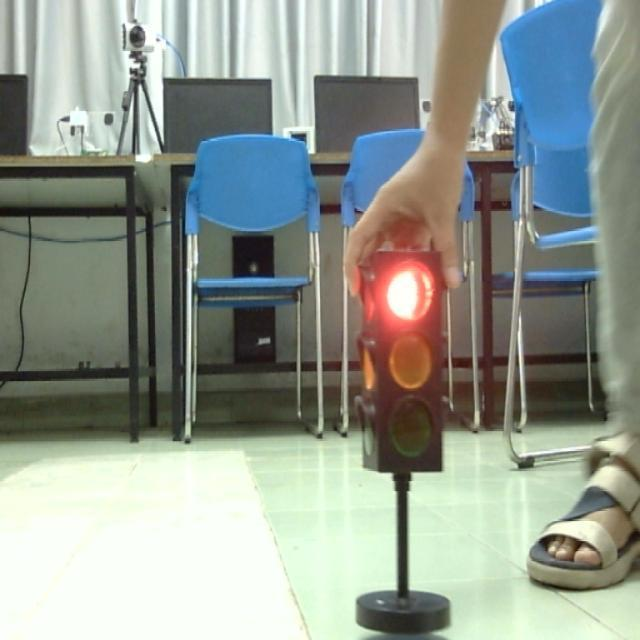red_light: (358, 244, 450, 476)
